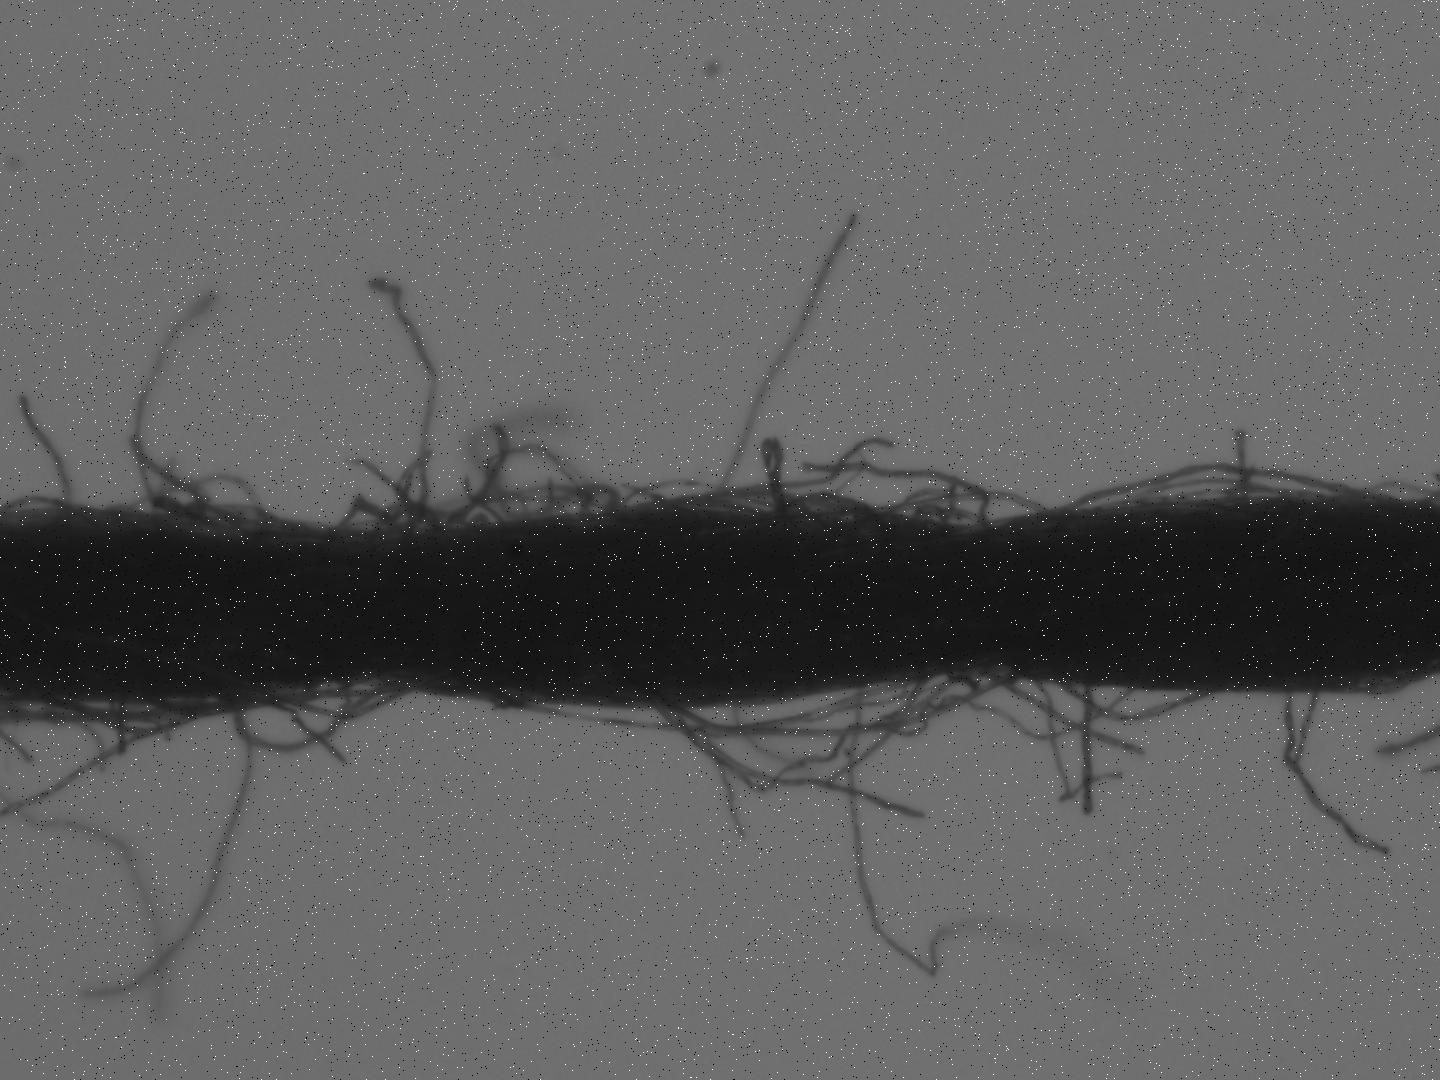loop_fiber: (603, 642, 1159, 825), (637, 431, 1003, 551), (313, 437, 627, 563), (490, 669, 1025, 737), (1052, 454, 1417, 533), (225, 663, 464, 757), (671, 682, 938, 735), (1065, 684, 1212, 722)
protruding_fiber: (74, 686, 255, 1009), (11, 394, 73, 523)
